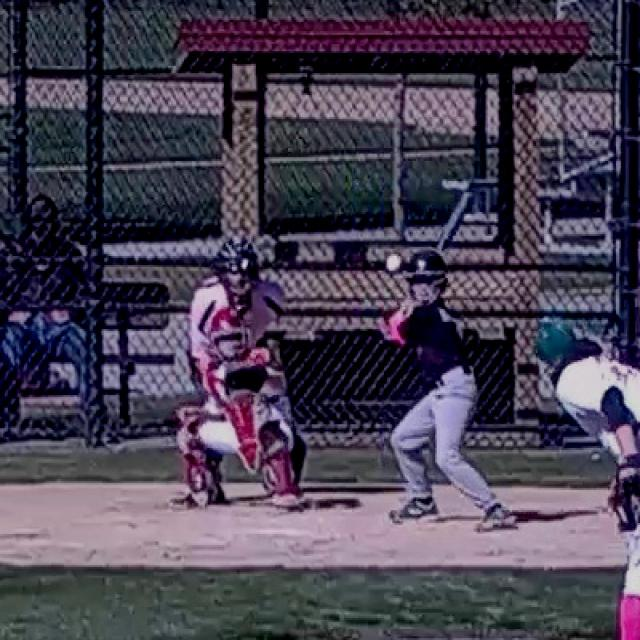baseball: (387, 254, 401, 270)
